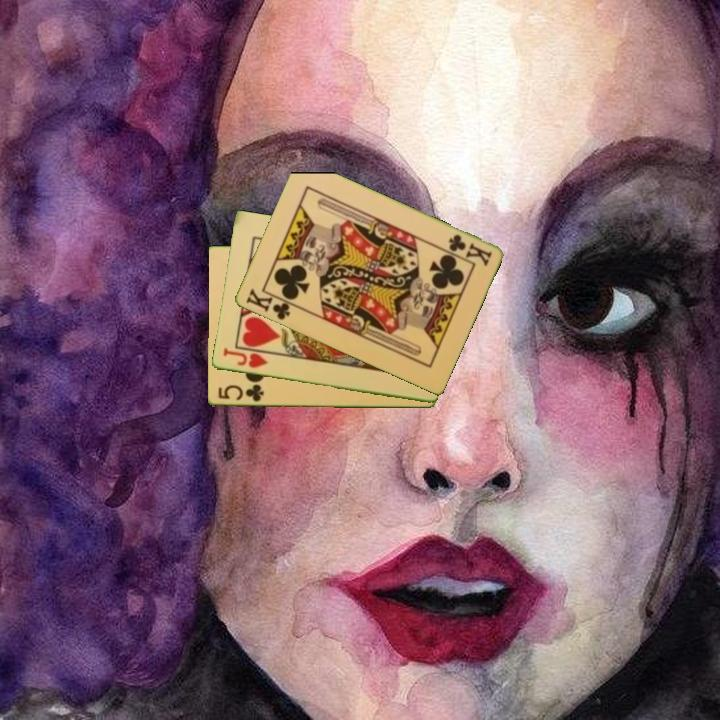5c: (214, 381, 266, 405)
Jh: (219, 345, 270, 371)
Kc: (242, 285, 298, 323), (445, 231, 495, 269)
